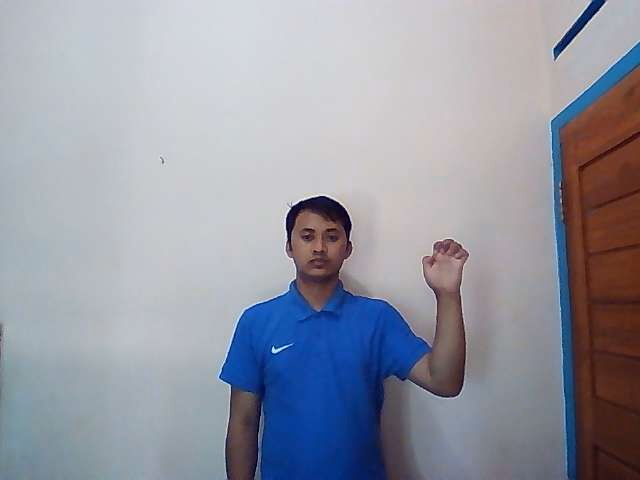E: (421, 239, 470, 295)
